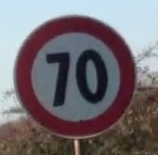limite 70: (12, 12, 137, 139)
